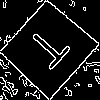T: (24, 24, 79, 77)
